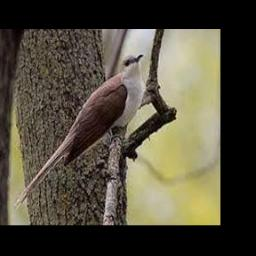Cuckoo: (13, 53, 143, 211)
